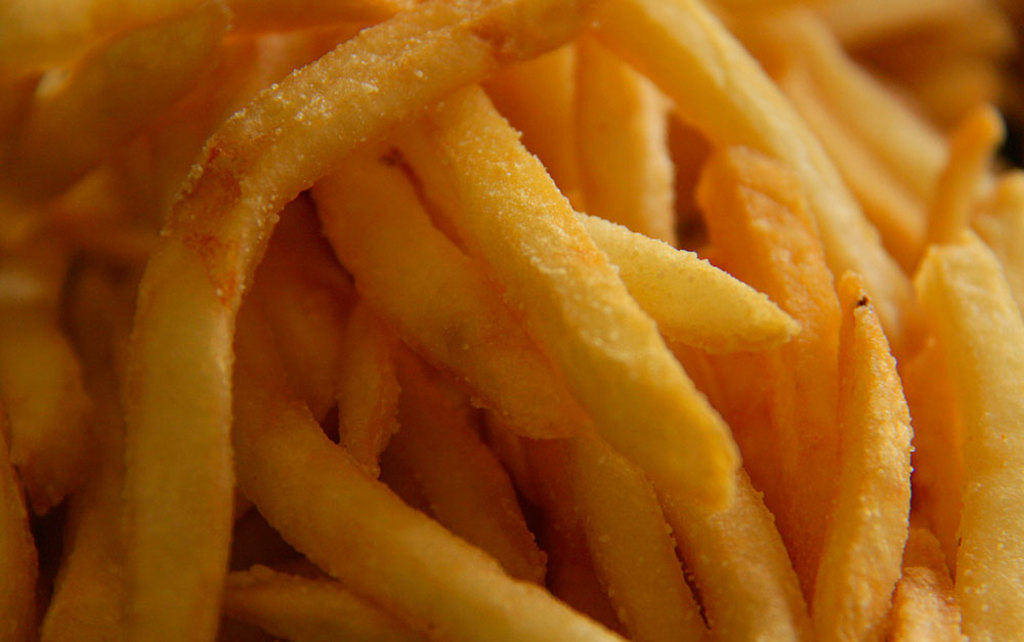French fries: (76, 0, 1024, 633)
